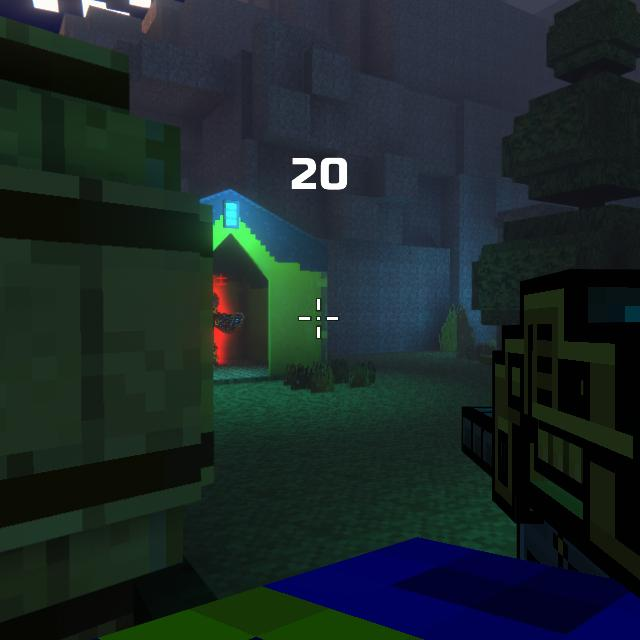Enemy: (213, 292, 235, 367)
